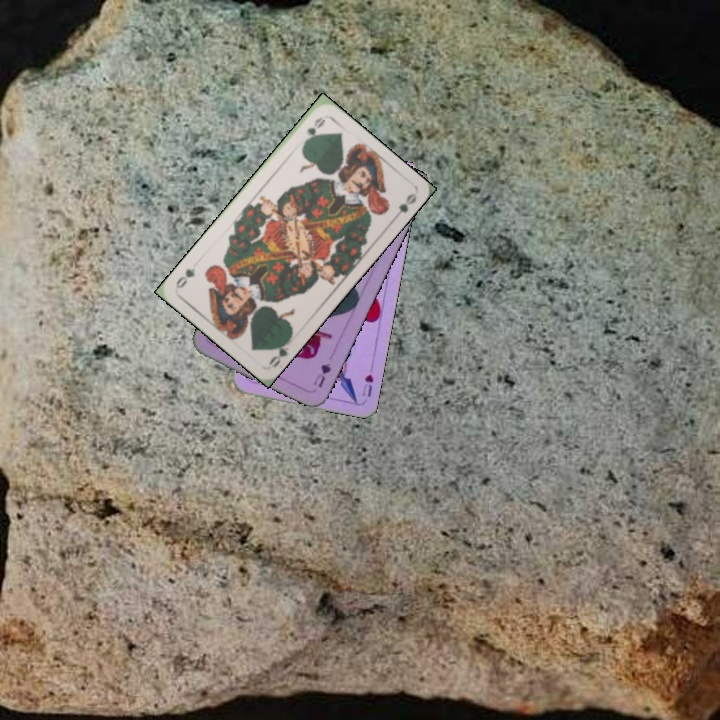GO: (265, 333, 294, 370), (299, 113, 328, 149)
GU: (309, 359, 334, 390)
HU: (358, 370, 376, 399)
